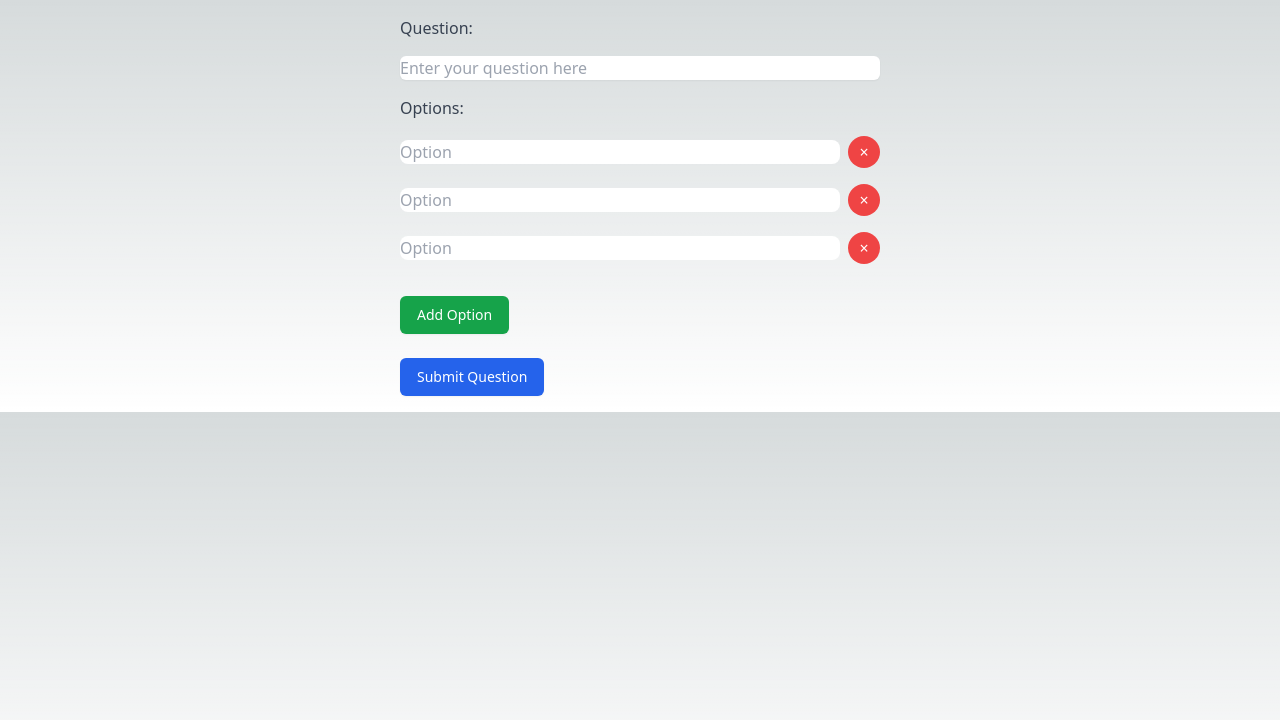
Test: does not show 'Add Option' button when there are 5 options
Click the button "Add Option" at (455, 315), box [400, 296, 509, 334]
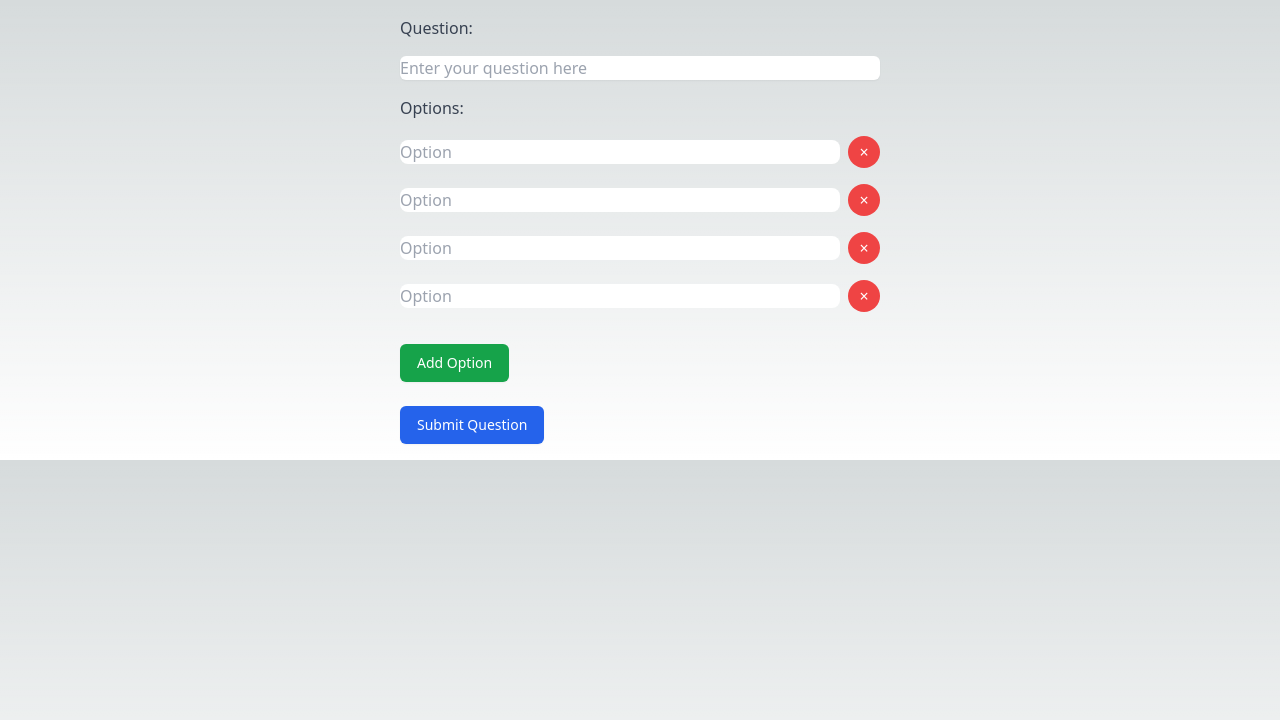
Click the button "Add Option" at (455, 363), box [400, 344, 509, 382]
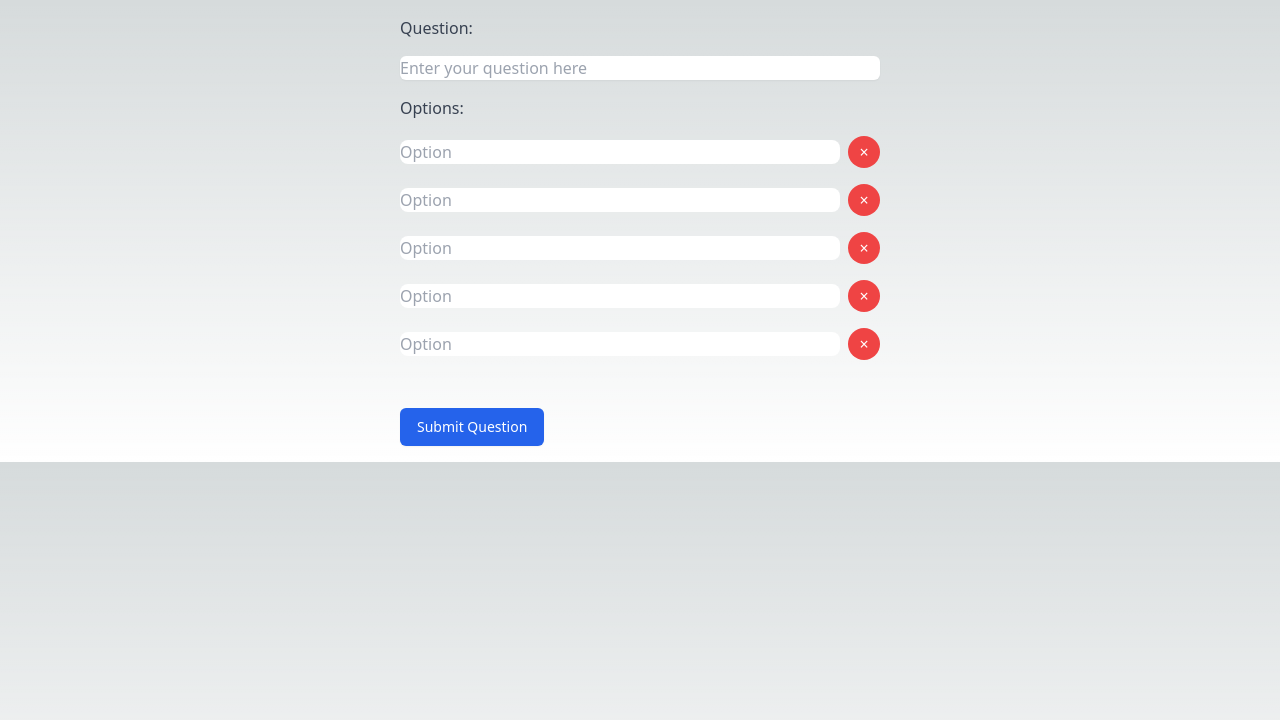
Check: the number of fields named "Option input" is 5, box [400, 140, 840, 164]; [400, 188, 840, 212]; [400, 236, 840, 260]; [400, 284, 840, 308]; [400, 332, 840, 356]
Check: the button "Add Option" is gone
